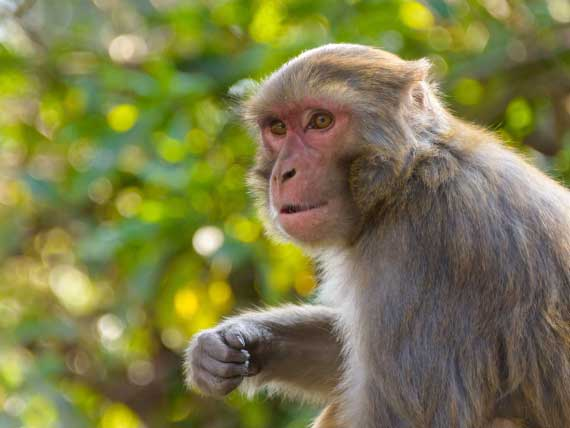monkey: (187, 40, 568, 428)
